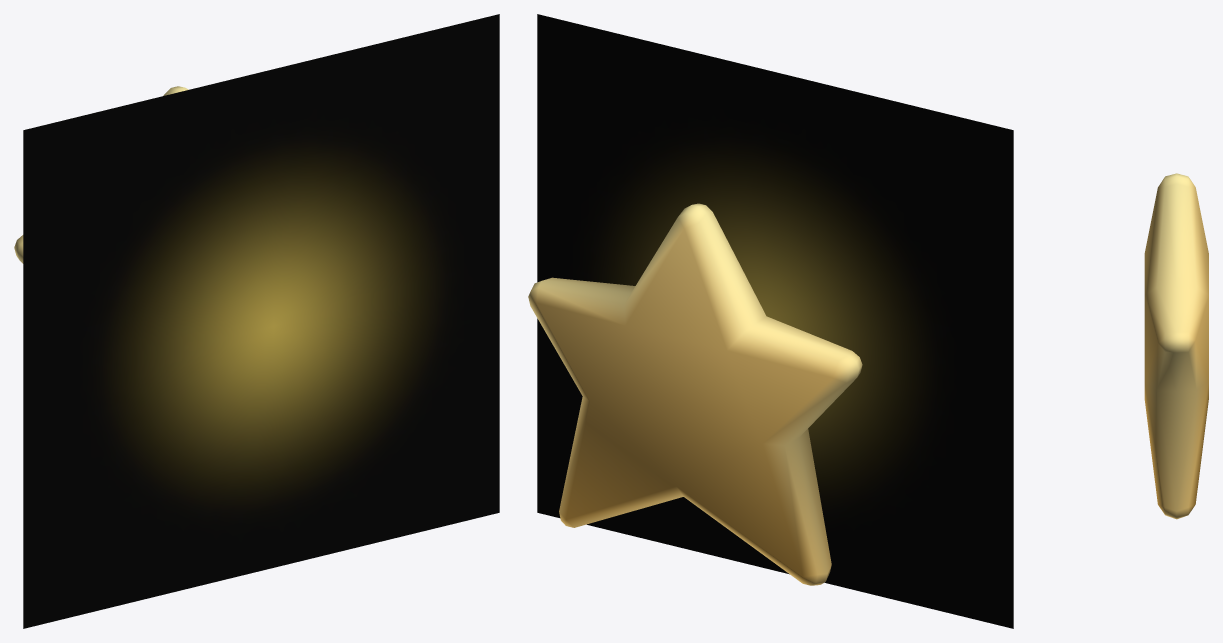
The model's file is Star_vfx.fbx.
3 views of the same model, side by side, from view 1: azimuth 30°, elevation 25°; view 2: azimuth 150°, elevation 25°; view 3: azimuth 270°, elevation 25° (orthographic). The views are drawn at different scales.
Visible parts, largest first — view 1: star_vfx; view 2: star_vfx; view 3: star_vfx.
Part boxes in pixels (box(x1,y1,x2,y2)): star_vfx: box(14, 14, 499, 628); star_vfx: box(528, 14, 1013, 628); star_vfx: box(1144, 173, 1208, 519).
Bounding box in the file's own units: 63.14 × 63.14 × 22.77.
